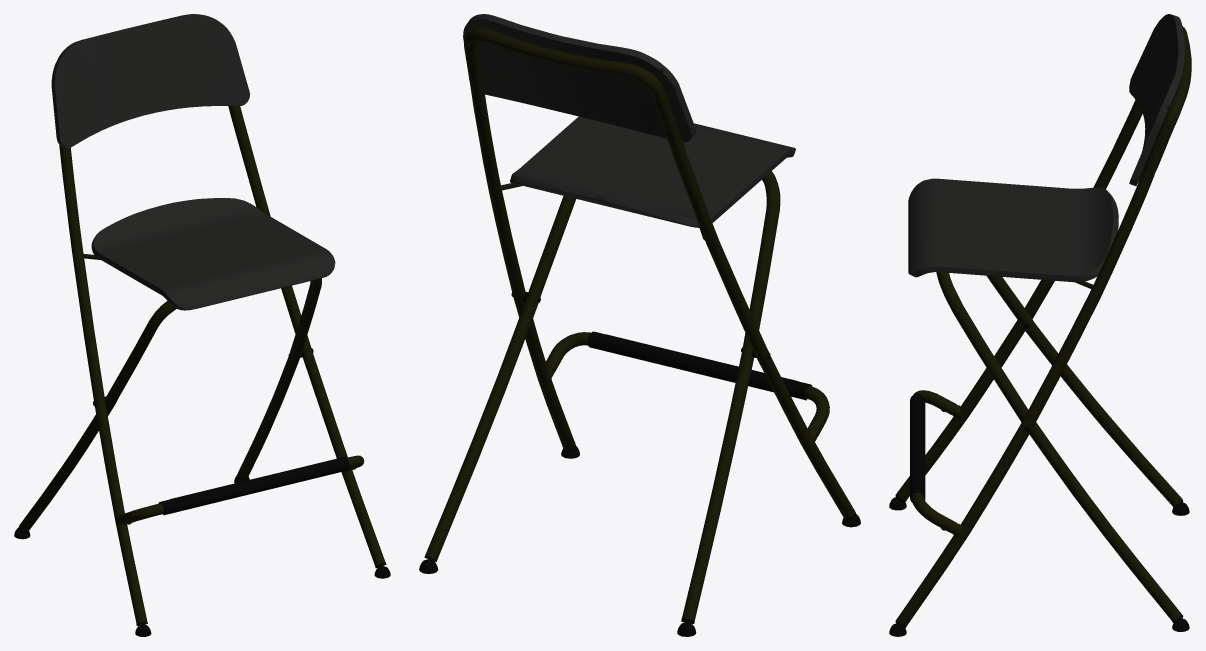
File: 24 - FRANKLIN Bar stool with backrest, foldable - counter height blackblack 63 cm.glb
The picture shows the model from 3 angles, left to right: view 1: azimuth 30°, elevation 25°; view 2: azimuth 150°, elevation 25°; view 3: azimuth 270°, elevation 25°; orthographic projection. The views are drawn at different scales.
Visible parts, largest first — view 1: Mesh_0; view 2: Mesh_0; view 3: Mesh_0.
Part boxes in pixels (x1,y1,x2,y2): Mesh_0: (14,14,390,636); Mesh_0: (419,14,860,636); Mesh_0: (889,14,1191,636).
Bounding box in the file's own units: 0.5208 × 0.949 × 0.4977.
1 material, 1 textured.
